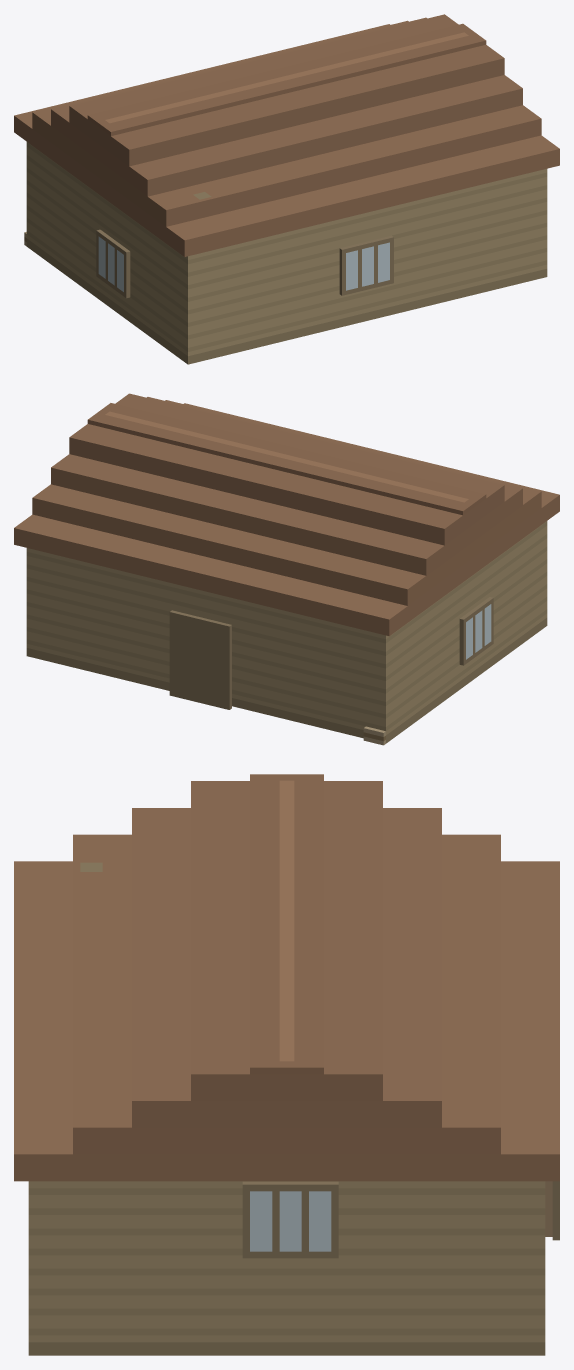
Rendered from peleteria_01.glb.
3 renders of one model, top to bottom at view 1: azimuth 30°, elevation 25°; view 2: azimuth 150°, elevation 25°; view 3: azimuth 270°, elevation 25°, orthographic. The views are drawn at different scales.
Visible parts, largest first — view 1: peleteria_01; view 2: peleteria_01; view 3: peleteria_01.
Part boxes in pixels (<box>): peleteria_01: <box>14,14,559,364</box>; peleteria_01: <box>14,393,559,745</box>; peleteria_01: <box>14,774,559,1355</box>.
Size of the model in its own units: 9.4 by 4.4 by 7.4.
